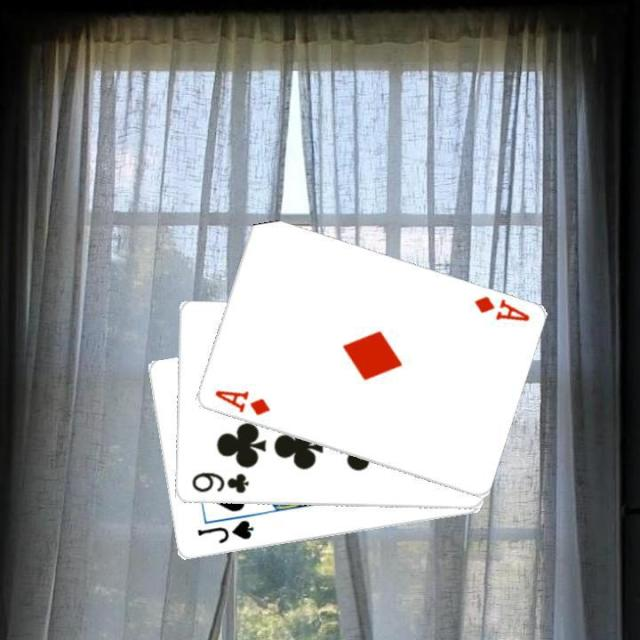9C: (188, 469, 250, 496)
AD: (470, 292, 531, 324), (211, 386, 271, 418)
JS: (193, 516, 255, 546)
